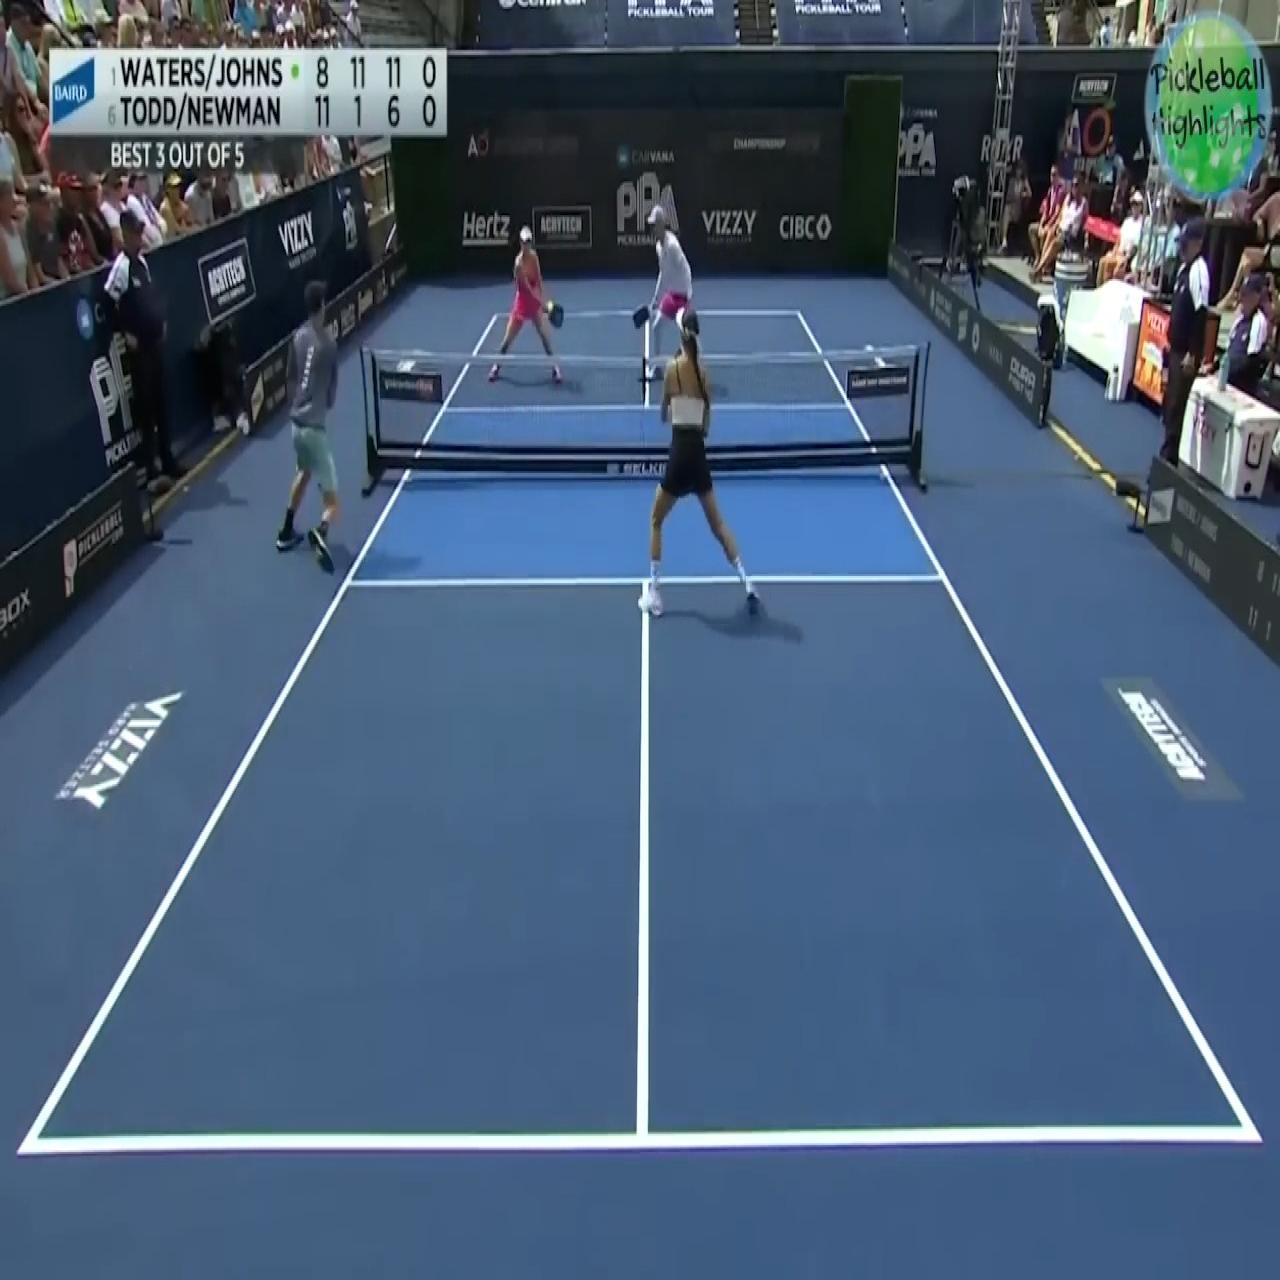Pickleball: (546, 297, 557, 315)
